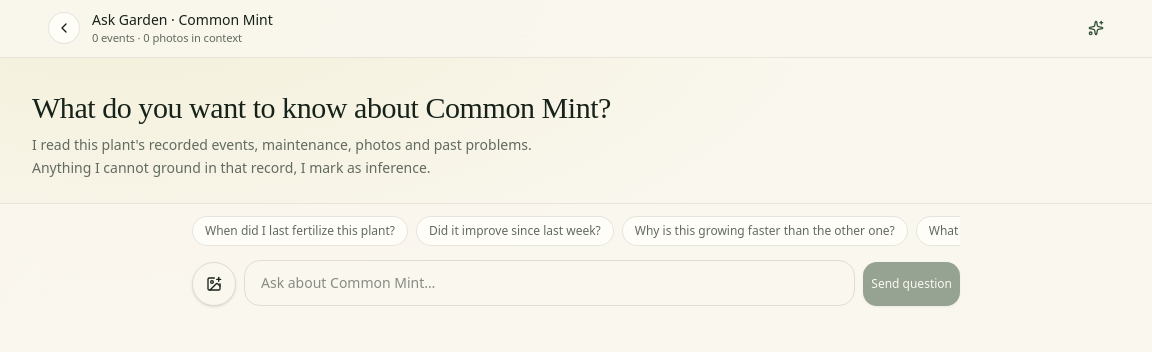
plant-scoped Ask Garden real route composer › keeps a deterministic recorded nutrient lookup on the local plant-record path
The width and height of the screenshot is (1152, 352).
Type "When did I last fertilize this plant?" into the field with placeholder "Ask about Common Mint…" at (550, 283), box [244, 260, 855, 306]
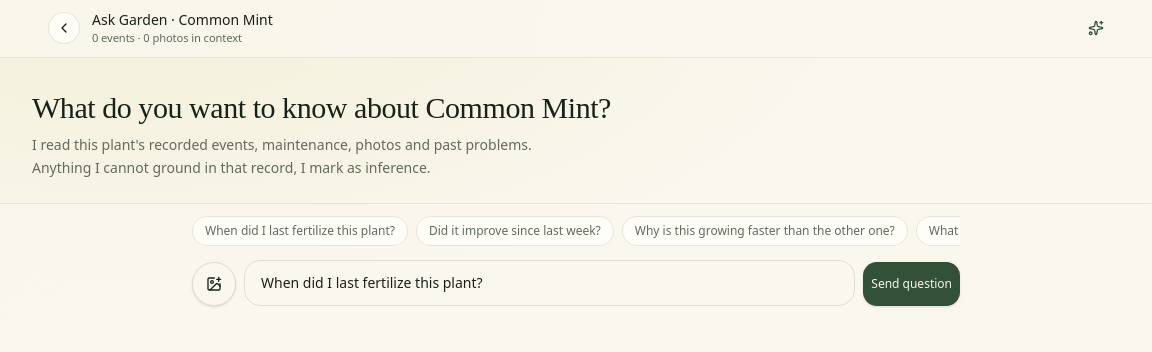
Submit the form with placeholder "Ask about Common Mint…", box [192, 260, 960, 306]
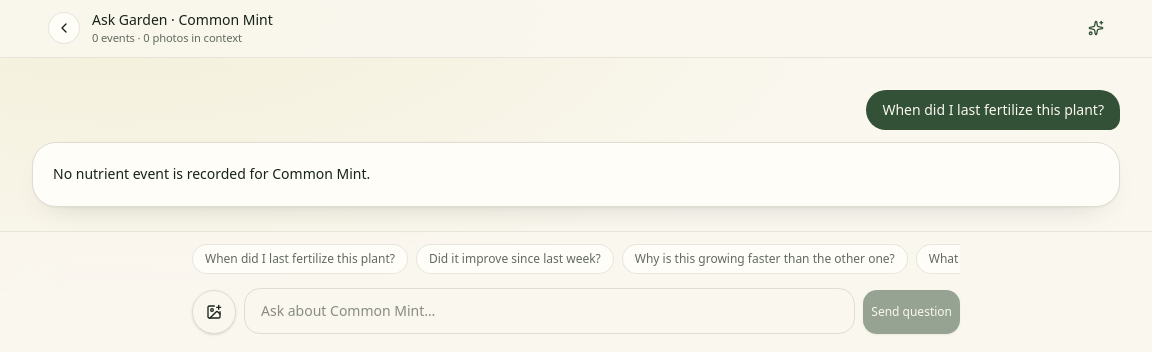
Result: the list item "No nutrient event is recorded for Common Mint." is shown at [53, 164, 370, 183]
